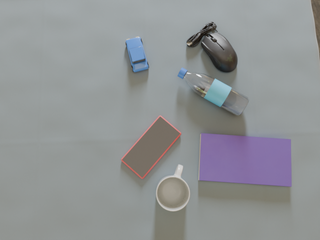book: (198, 133, 291, 187)
bottle: (178, 68, 249, 116)
cup: (156, 165, 190, 211)
mouse: (187, 22, 237, 72)
phone: (121, 116, 181, 179)
toy_car: (125, 37, 149, 72)
